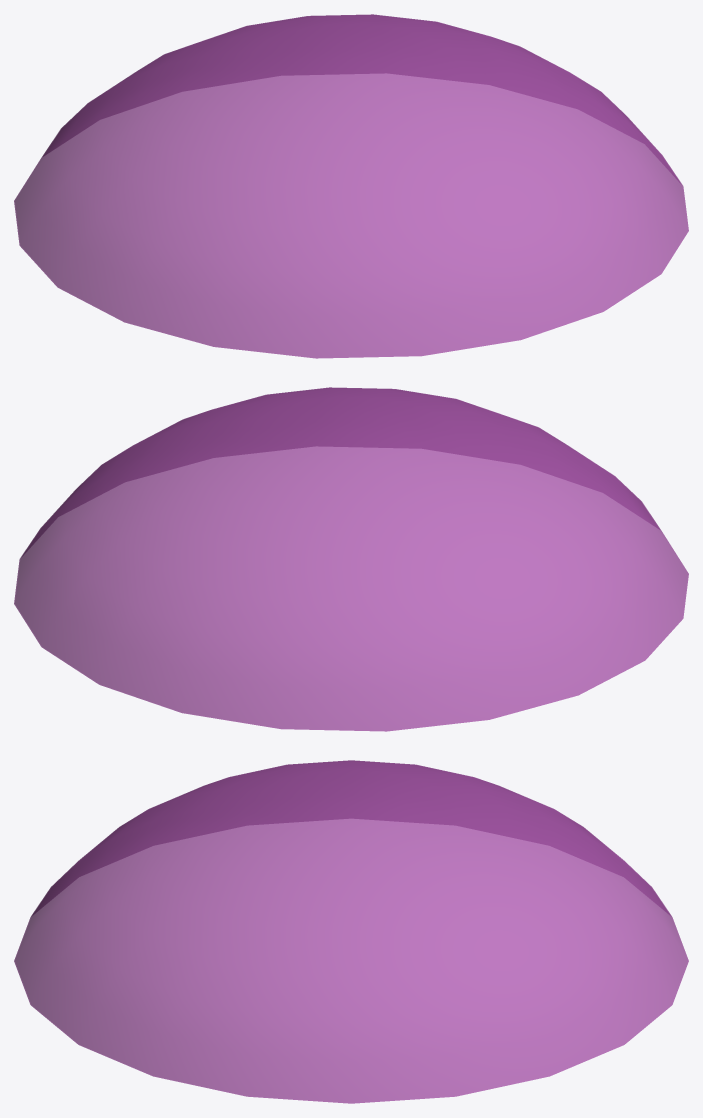
3 renders of one model, top to bottom at view 1: azimuth 30°, elevation 25°; view 2: azimuth 150°, elevation 25°; view 3: azimuth 270°, elevation 25°, orthographic.
Visible parts, largest first — view 1: pSphere2; view 2: pSphere2; view 3: pSphere2.
Boxes of the visible parts, box(x1,y1,x2,y2) form: pSphere2: box(14, 14, 688, 358); pSphere2: box(14, 387, 688, 731); pSphere2: box(14, 760, 688, 1103).
Size of the model in its own units: 439 by 112 by 439.
